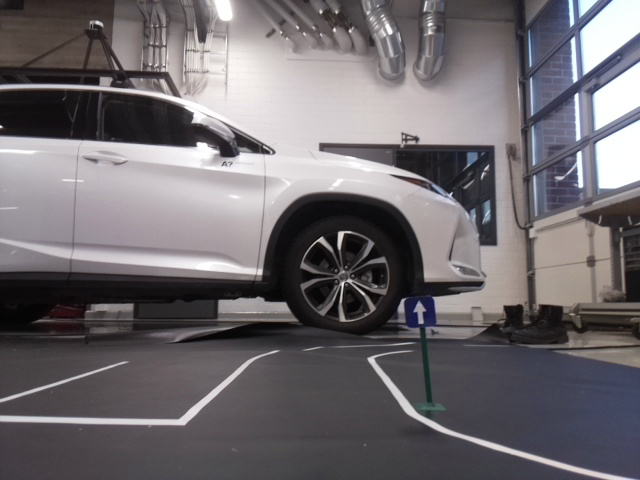OneWay: (403, 298, 436, 326)
